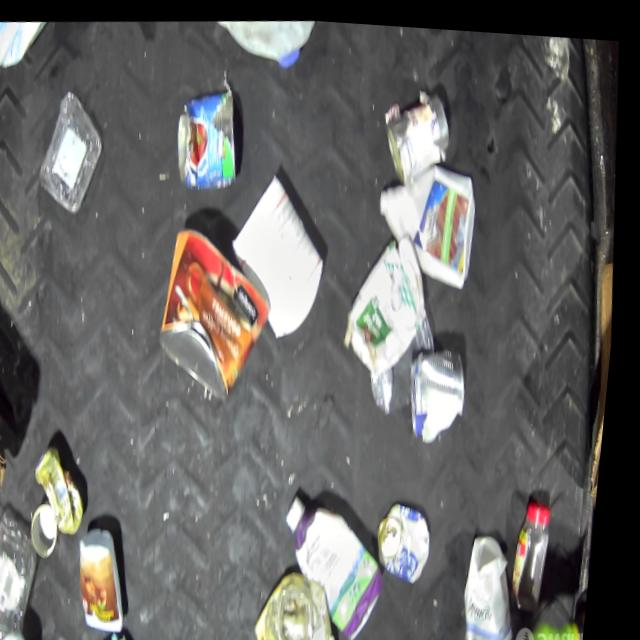can: (154, 210, 287, 401), (170, 72, 258, 194), (406, 332, 482, 434), (38, 439, 107, 540), (382, 86, 456, 180)
milk_jug: (375, 142, 494, 291), (214, 11, 319, 79)
non_white_jug: (285, 480, 405, 640)
plastic_bottle: (0, 501, 63, 640)
